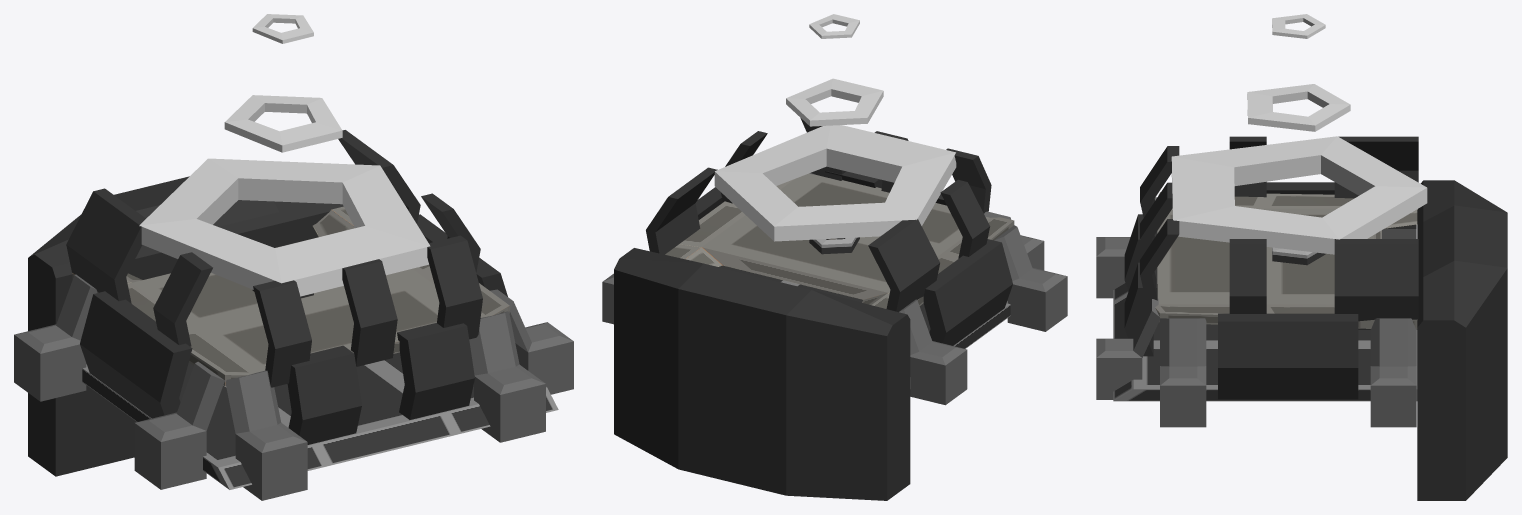
The model's file is vaderCastle_visibleMesh.fbx.
The picture shows the model from 3 angles, left to right: view 1: azimuth 30°, elevation 25°; view 2: azimuth 150°, elevation 25°; view 3: azimuth 270°, elevation 25°; orthographic projection. The views are drawn at different scales.
Visible parts, largest first — view 1: Vader_Caslte_visibleMesh; view 2: Vader_Caslte_visibleMesh; view 3: Vader_Caslte_visibleMesh.
Part boxes in pixels (x1,y1,x2,y2): Vader_Caslte_visibleMesh: (14, 14, 573, 500); Vader_Caslte_visibleMesh: (602, 14, 1067, 500); Vader_Caslte_visibleMesh: (1096, 14, 1507, 500).
Bounding box in the file's own units: 21.87 × 23.42 × 21.61.
